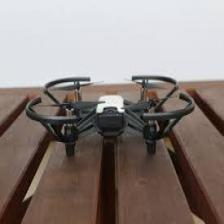drone: (29, 74, 195, 154)
